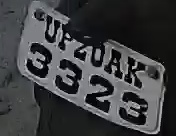0: (91, 39, 106, 69)
2: (87, 72, 116, 116), (71, 37, 90, 61)
3: (120, 91, 152, 126), (53, 58, 84, 94), (25, 42, 52, 81)
A: (105, 45, 124, 82)
K: (126, 53, 144, 89)
P: (57, 23, 76, 51)
U: (42, 13, 59, 46)
